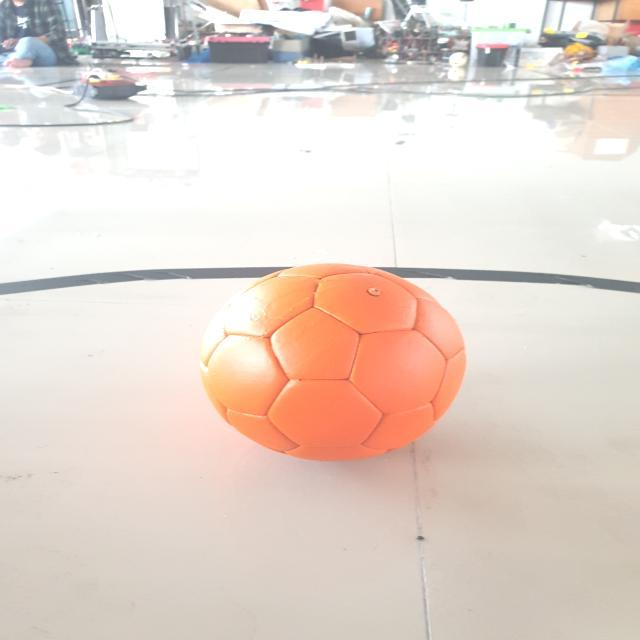bola: (194, 258, 472, 467)
